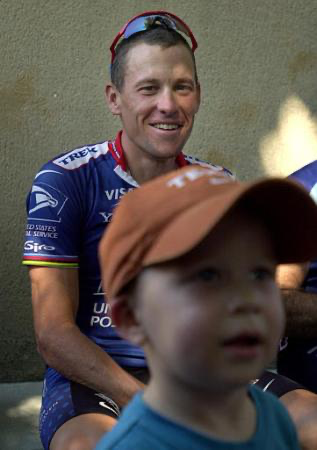Face: (150, 252, 291, 396), (125, 47, 205, 157)
